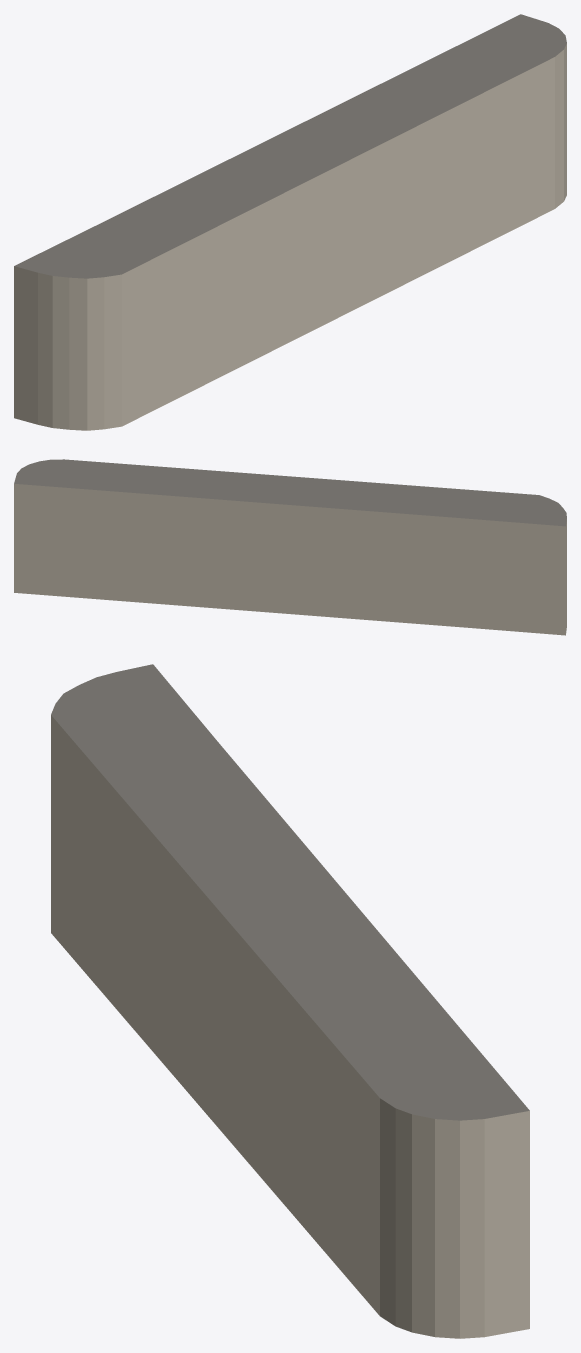
3 renders of one model, top to bottom at view 1: azimuth 30°, elevation 25°; view 2: azimuth 150°, elevation 25°; view 3: azimuth 270°, elevation 25°, orthographic. The views are drawn at different scales.
Parts seen in each view (by area): view 1: HP-w1198539445; view 2: HP-w1198539445; view 3: HP-w1198539445.
Part boxes in pixels (x1,y1,x2,y2): HP-w1198539445: (14,14,566,430); HP-w1198539445: (14,459,566,635); HP-w1198539445: (51,664,529,1338).
Size of the model in its own units: 80.76 by 18 by 35.82.
